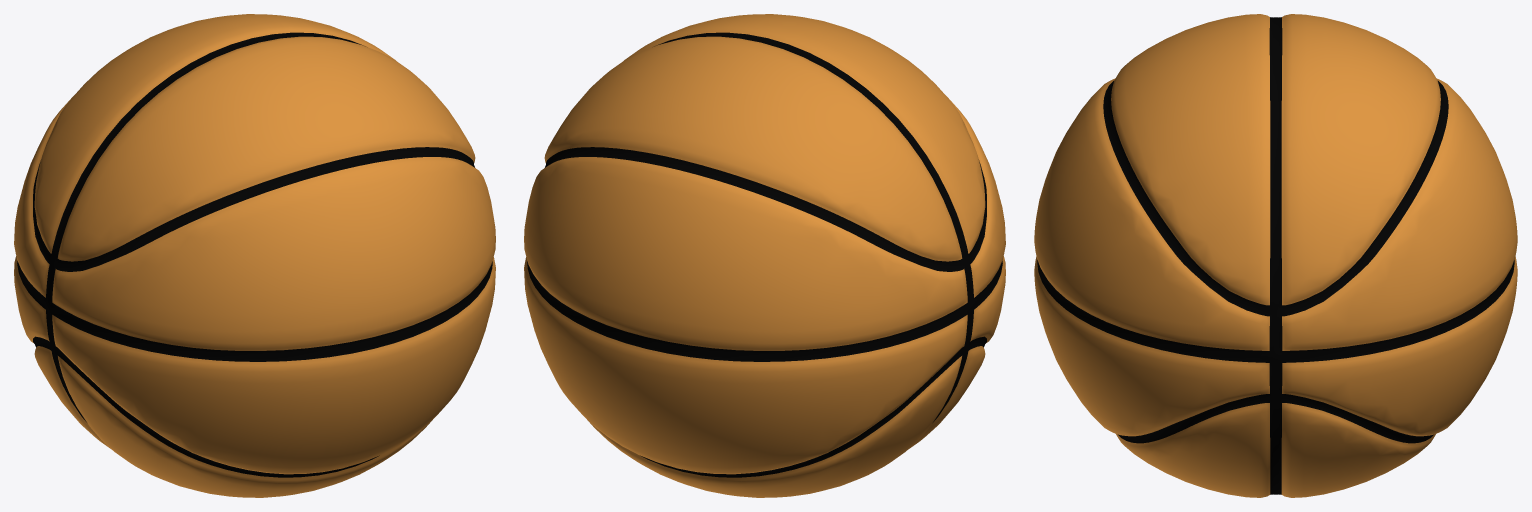
The model's file is basketball.fbx.
The picture shows the model from 3 angles, left to right: view 1: azimuth 30°, elevation 25°; view 2: azimuth 150°, elevation 25°; view 3: azimuth 270°, elevation 25°; orthographic projection.
Visible parts, largest first — view 1: basketball; view 2: basketball; view 3: basketball.
Boxes of the visible parts, left/top/right/bottom form: basketball: left=14, top=14, right=495, bottom=497; basketball: left=524, top=14, right=1005, bottom=497; basketball: left=1034, top=14, right=1517, bottom=497.
Size of the model in its own units: 1.96 by 1.97 by 1.97.
